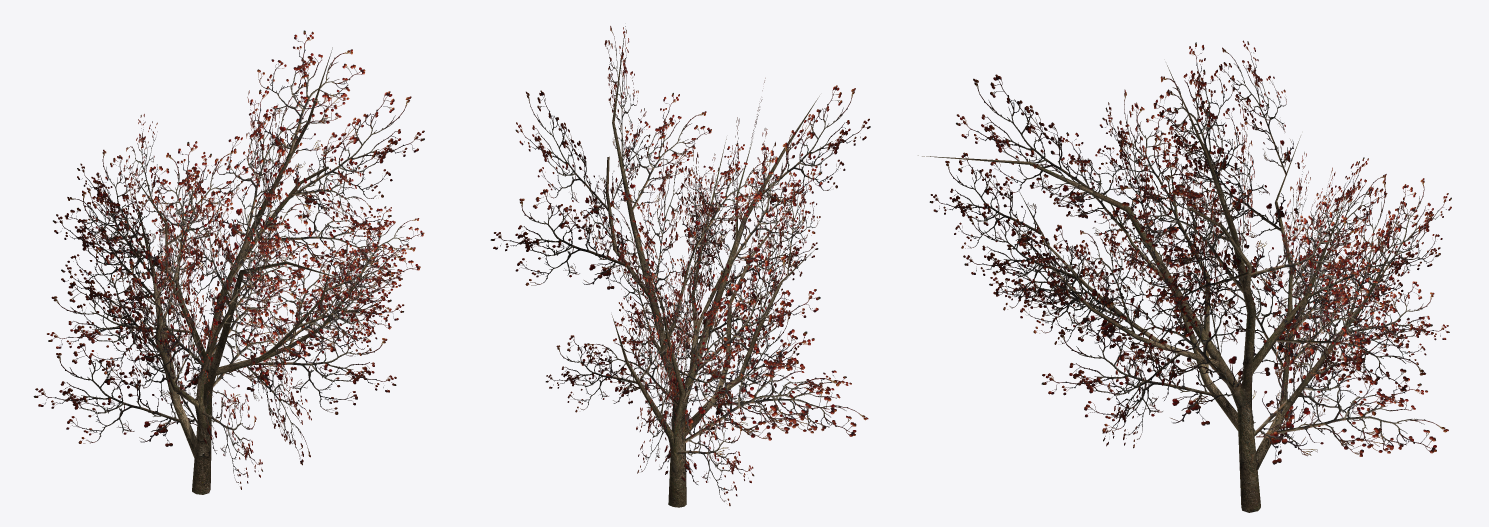
3 views of the same model, side by side, from view 1: azimuth 30°, elevation 25°; view 2: azimuth 150°, elevation 25°; view 3: azimuth 270°, elevation 25° (orthographic). The views are drawn at different scales.
Parts seen in each view (by area): view 1: 502; view 2: 502; view 3: 502.
Boxes of the visible parts, x1,y1,x2,y2 form: 502: (33,30,424,494); 502: (490,26,870,507); 502: (918,40,1451,512).
Bounding box in the file's own units: 12.87 × 15.54 × 15.04.
